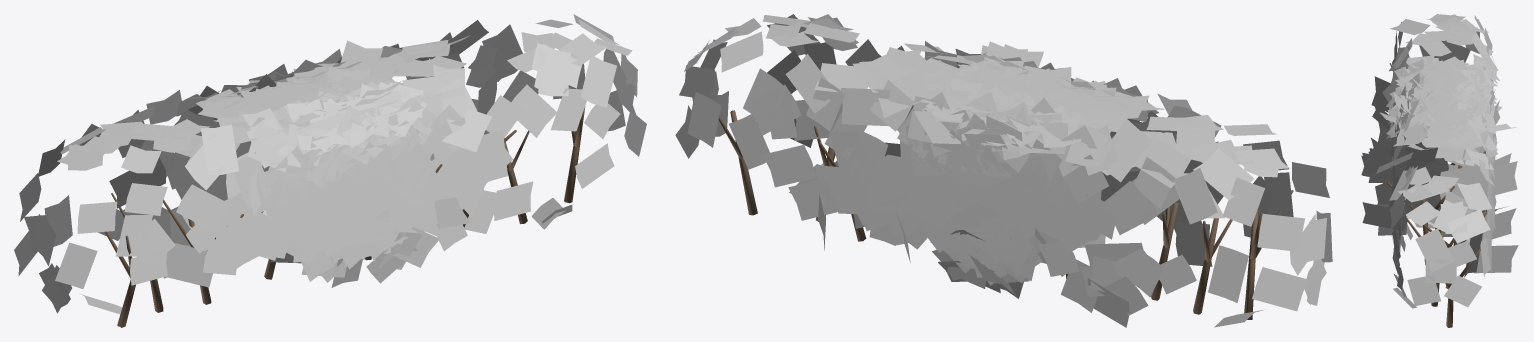
Rendered from hedge_row.glb.
The picture shows the model from 3 angles, left to right: view 1: azimuth 30°, elevation 25°; view 2: azimuth 150°, elevation 25°; view 3: azimuth 270°, elevation 25°; orthographic projection. The views are drawn at different scales.
Visible parts, largest first — view 1: hedge_row; view 2: hedge_row; view 3: hedge_row.
Part boxes in pixels (x1=…): hedge_row: x1=14, y1=14, x2=646, y2=327; hedge_row: x1=675, y1=14, x2=1332, y2=327; hedge_row: x1=1361, y1=14, x2=1518, y2=327.
Bounding box in the file's own units: 6.75 × 2.18 × 2.02.
